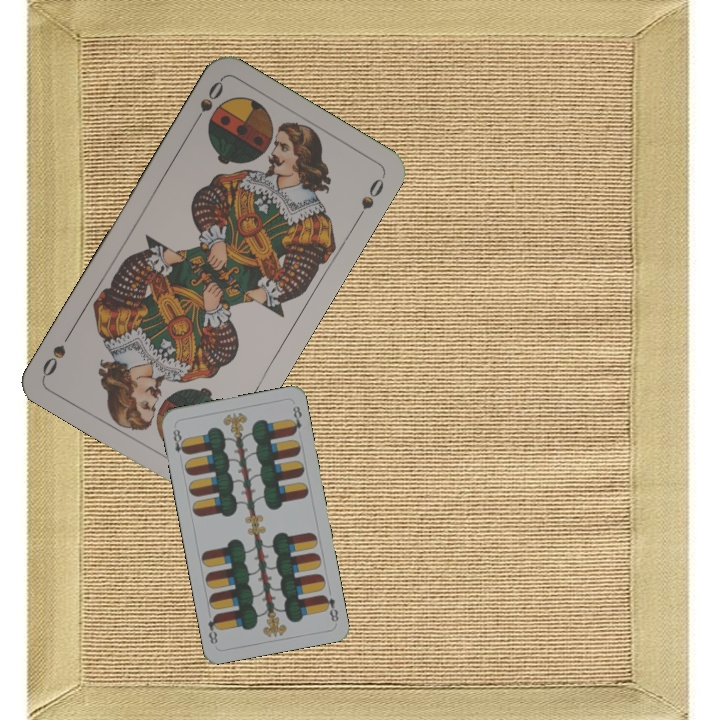E8: (319, 591, 341, 624), (169, 422, 189, 457)
SO: (188, 76, 226, 130)
